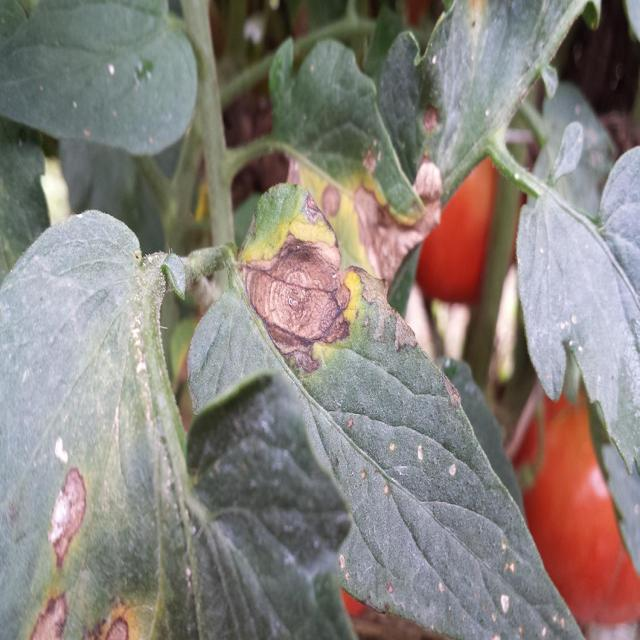Early Blight: (186, 174, 592, 640), (0, 208, 354, 640), (265, 32, 431, 293)
